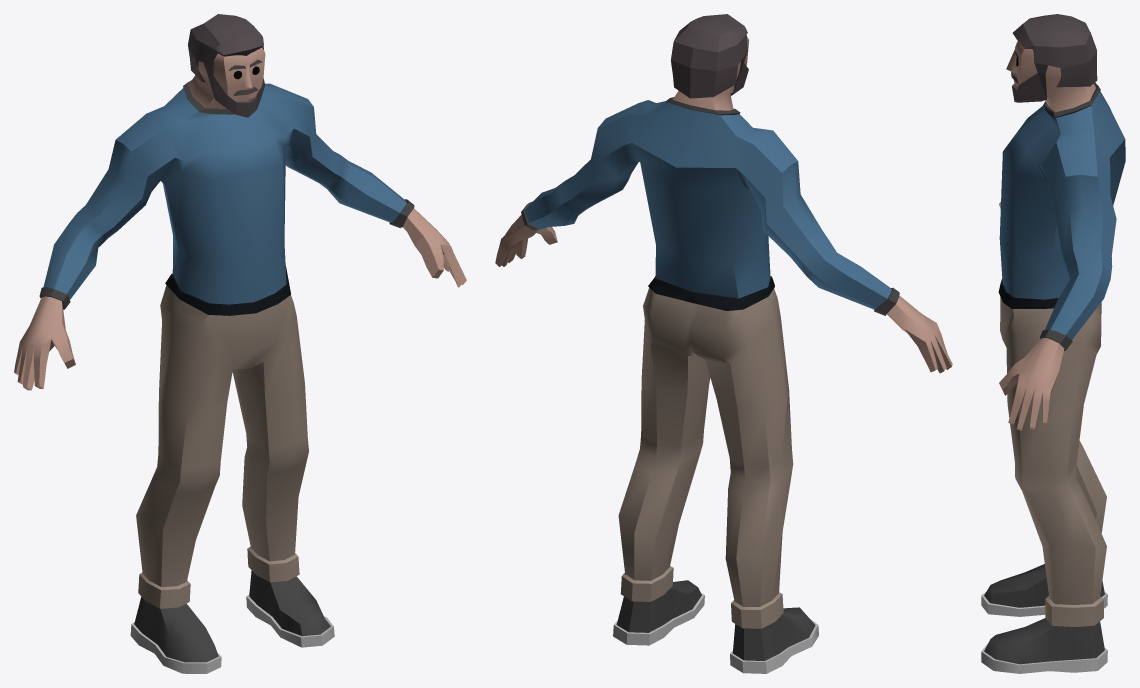
The model's file is LowPolyCharacter1.fbx.
The picture shows the model from 3 angles, left to right: view 1: azimuth 30°, elevation 25°; view 2: azimuth 150°, elevation 25°; view 3: azimuth 270°, elevation 25°; orthographic projection.
Visible parts, largest first — view 1: lowPolyCharacterFace_EXP; view 2: lowPolyCharacterFace_EXP; view 3: lowPolyCharacterFace_EXP.
Boxes of the visible parts, x1,y1,x2,y2 form: lowPolyCharacterFace_EXP: [14, 14, 466, 673]; lowPolyCharacterFace_EXP: [495, 14, 952, 673]; lowPolyCharacterFace_EXP: [981, 14, 1125, 673].
Size of the model in its own units: 139 by 184 by 39.22.
